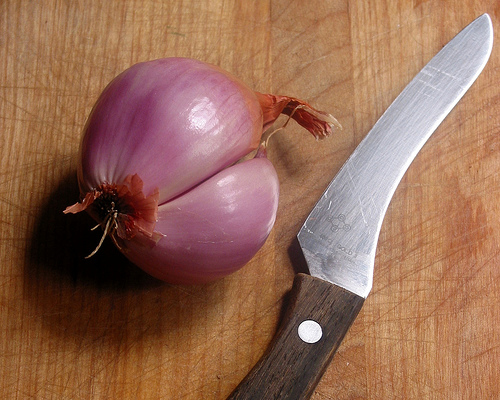onion: (76, 45, 344, 291)
